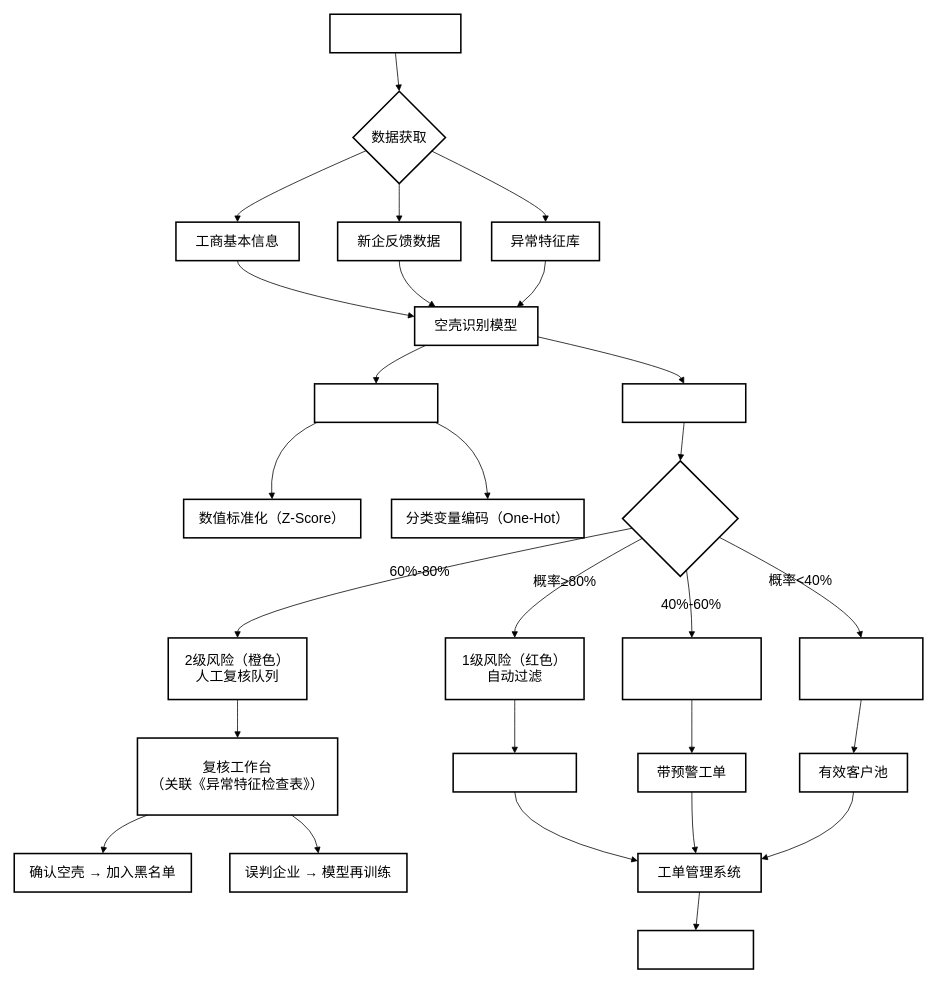
The diagram is 936 pixels wide and 983 high, and some of its shapes have lost their labels. The centre of each missing label's shape, as x and y in pixels:
"3级风险（黄色） 标注提示信息" belongs at point 691,668.
"客户经理APP" belongs at point 695,949.
"新注册企业工单" belongs at point 395,33.
"模型实时评分" belongs at point 683,403.
"模型特征加工" belongs at point 375,403.
"正常企业 直接派发工单" belongs at point 860,668.
"空壳企业清单" belongs at point 514,772.
"风险分级决策" belongs at point 679,518.
